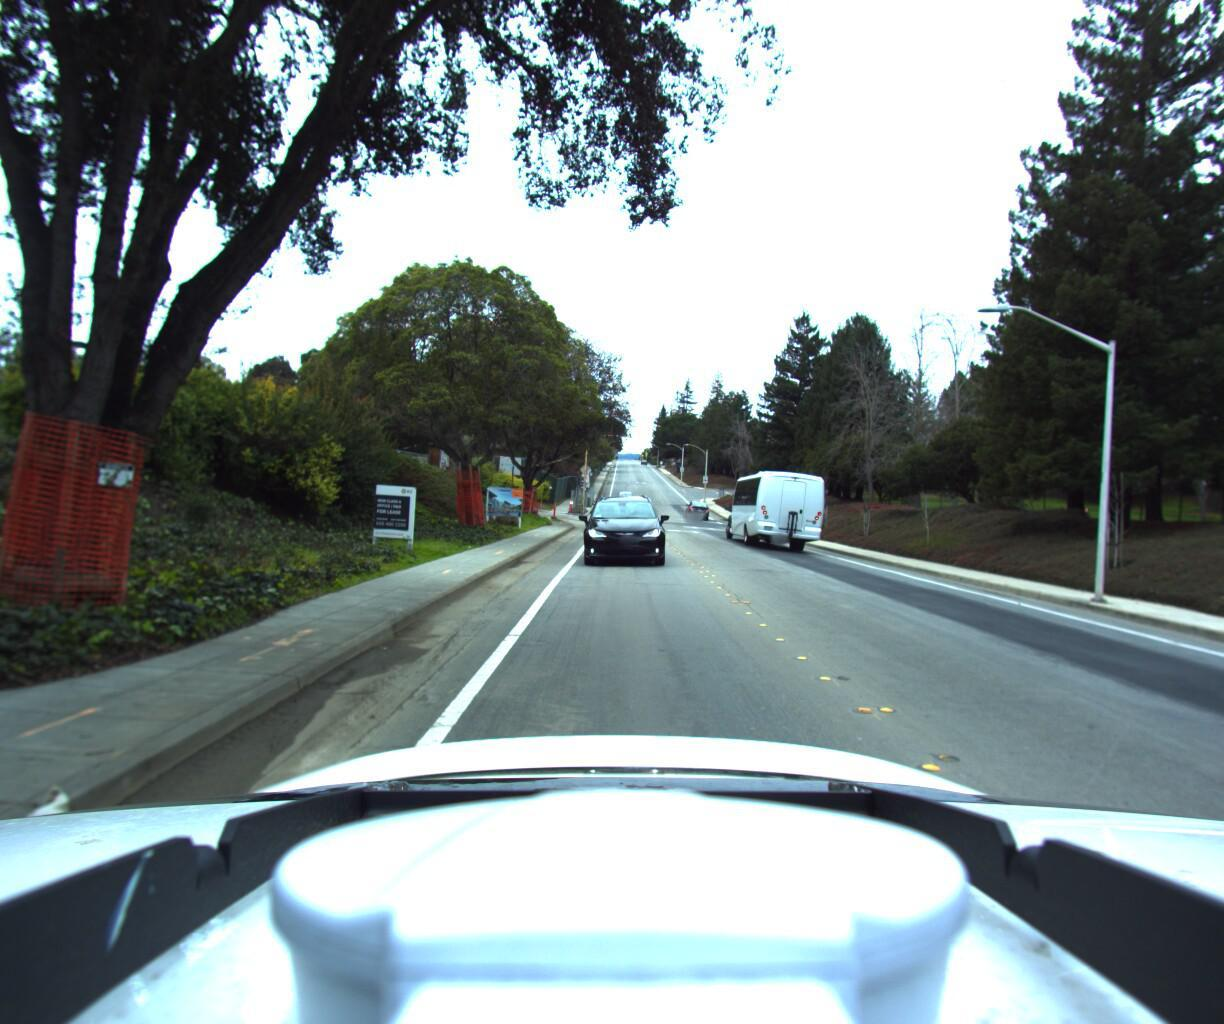bus: (717, 464, 819, 554)
car: (579, 480, 670, 569), (683, 499, 711, 520)
